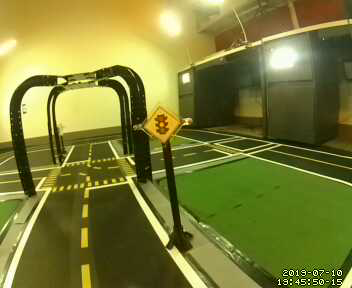Traffic light sign: (145, 104, 182, 143)
